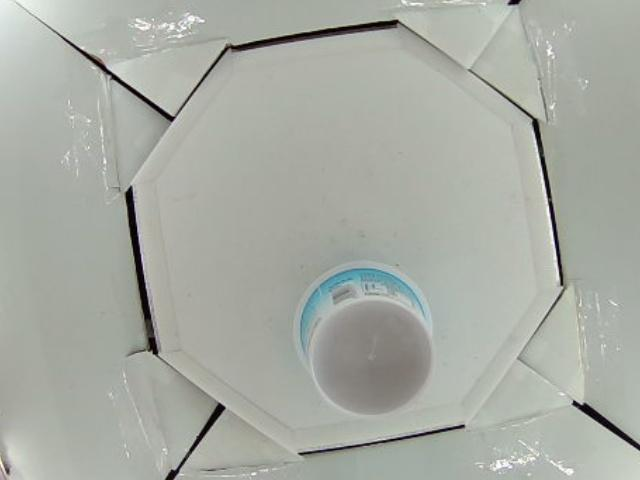Cup: (295, 260, 437, 417)
